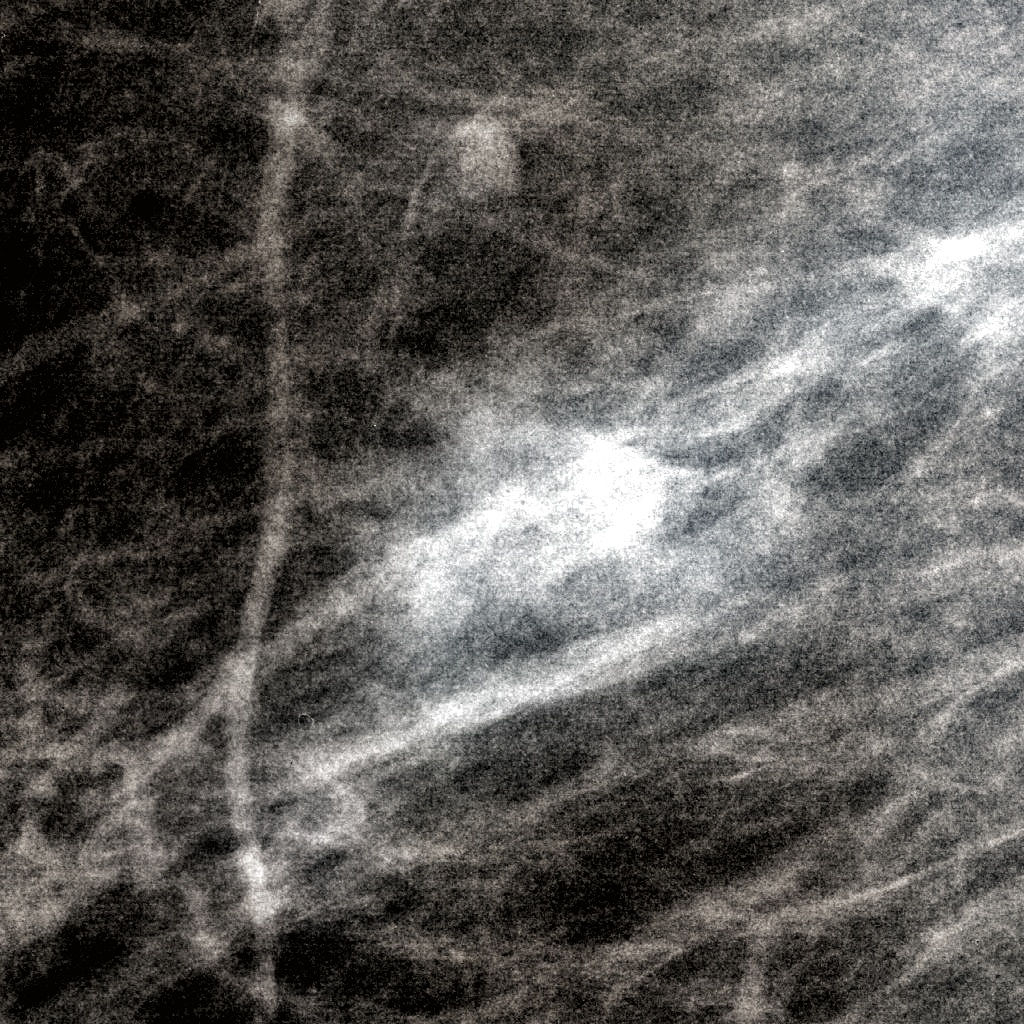tumor: (371, 397, 653, 627)
